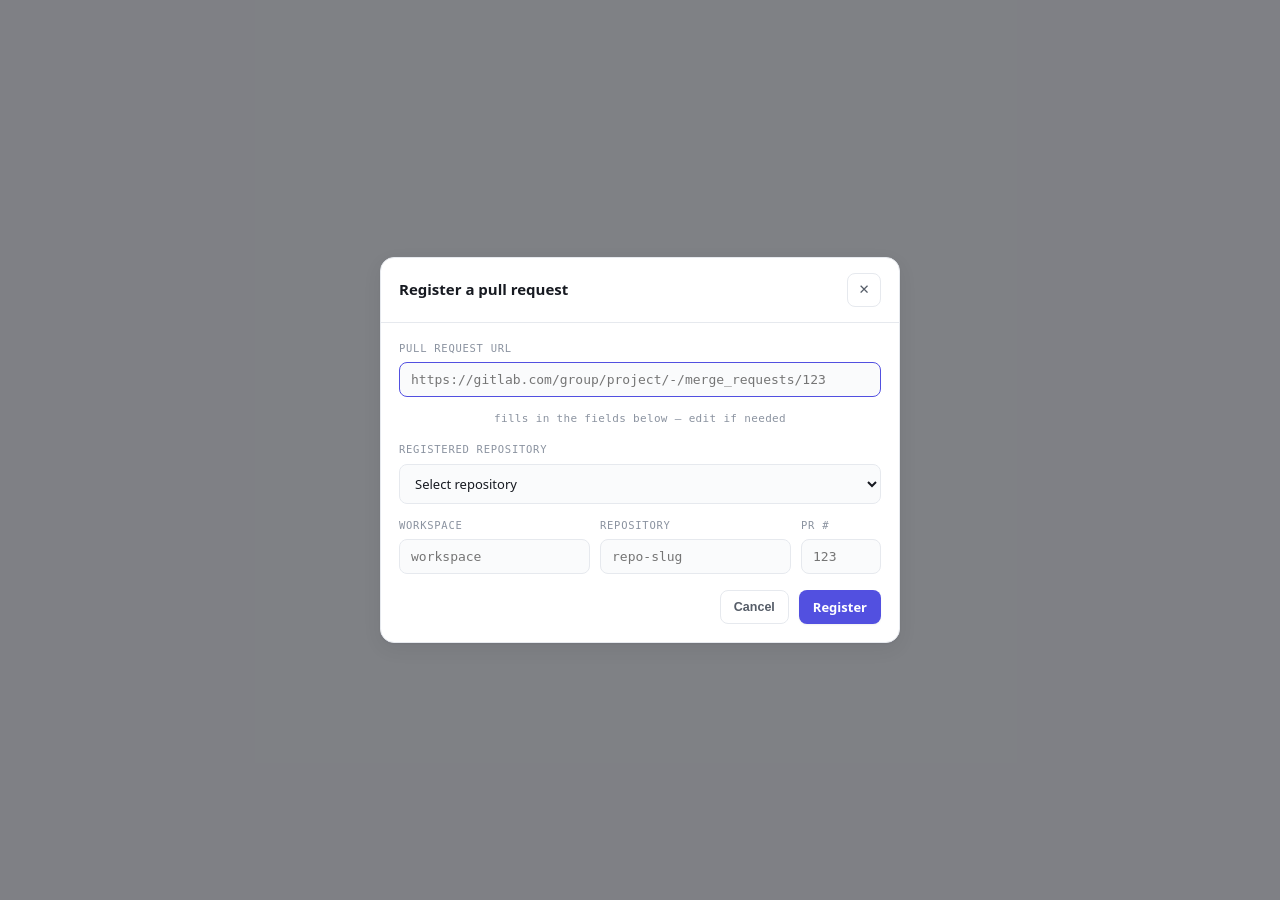
Test: RegisterPrDialog — form › surfaces a register failure instead of reporting success
Select "https://github.example.invalid · acme/widgets" in the dropdown labelled "Registered repository". click: (640,484)
box: [399,464,881,504]
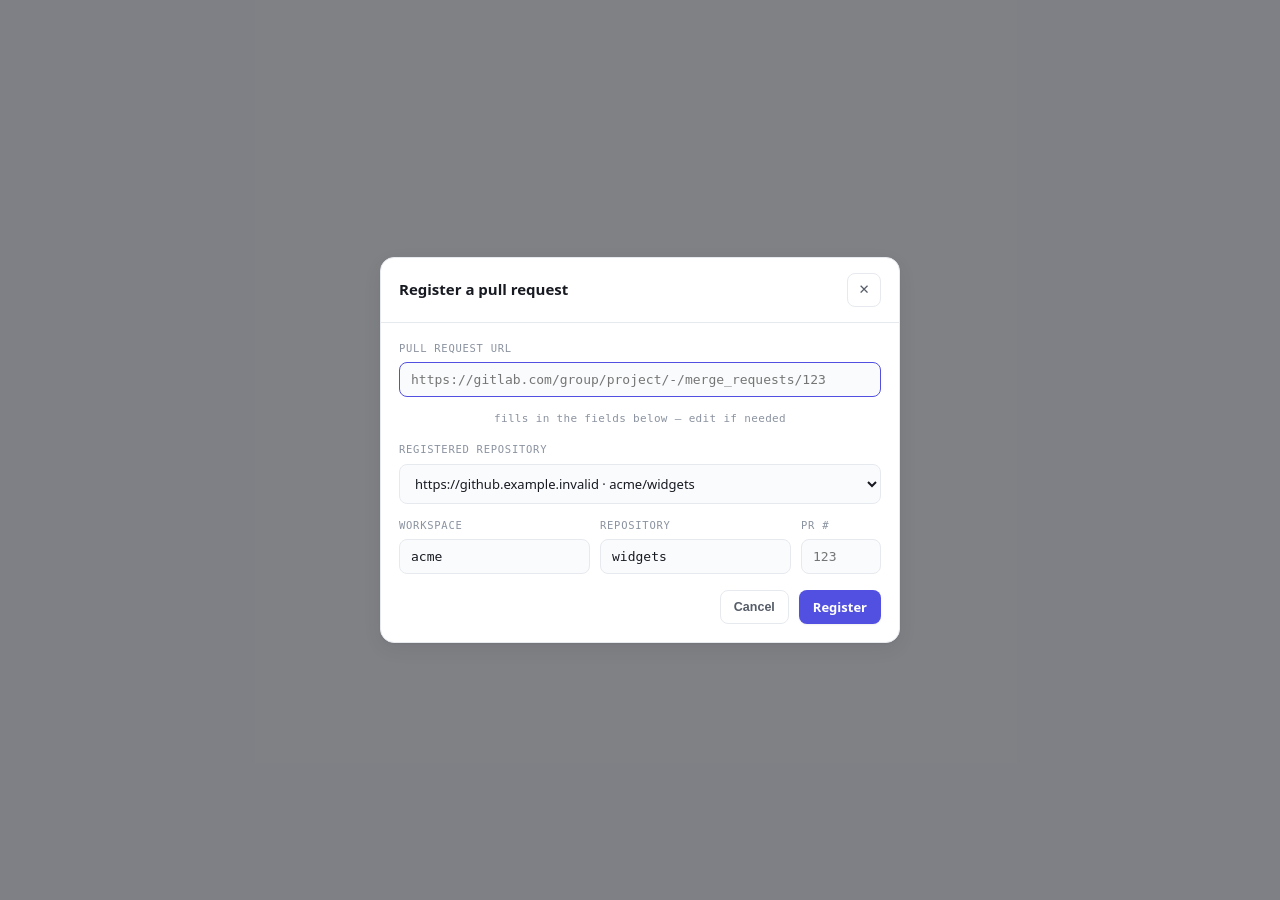
Type "7" into the field labelled "PR #". click: (841,557)
box: [801,539,881,574]
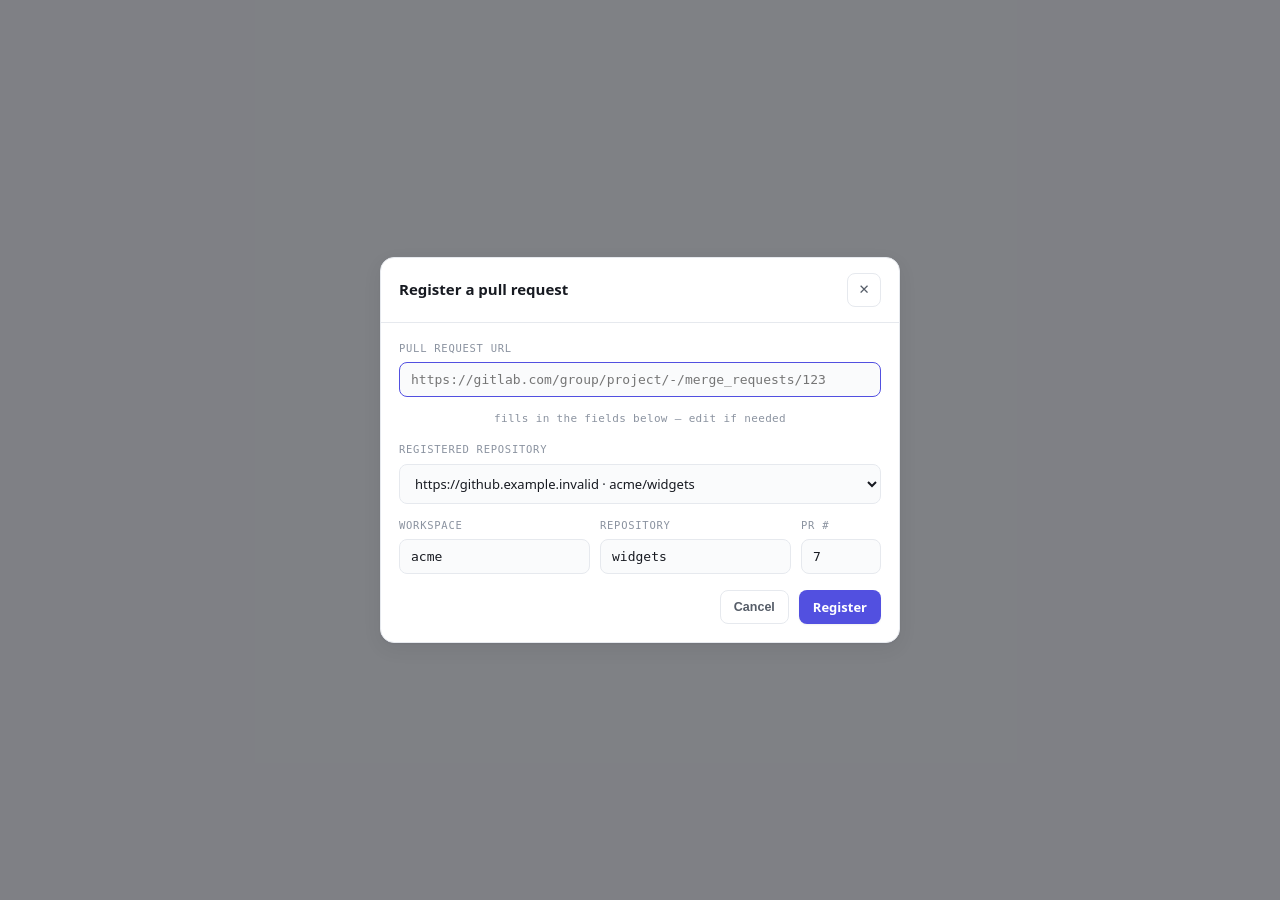
Click the button "Register". click: (840,607)
box: [799,590,881,624]
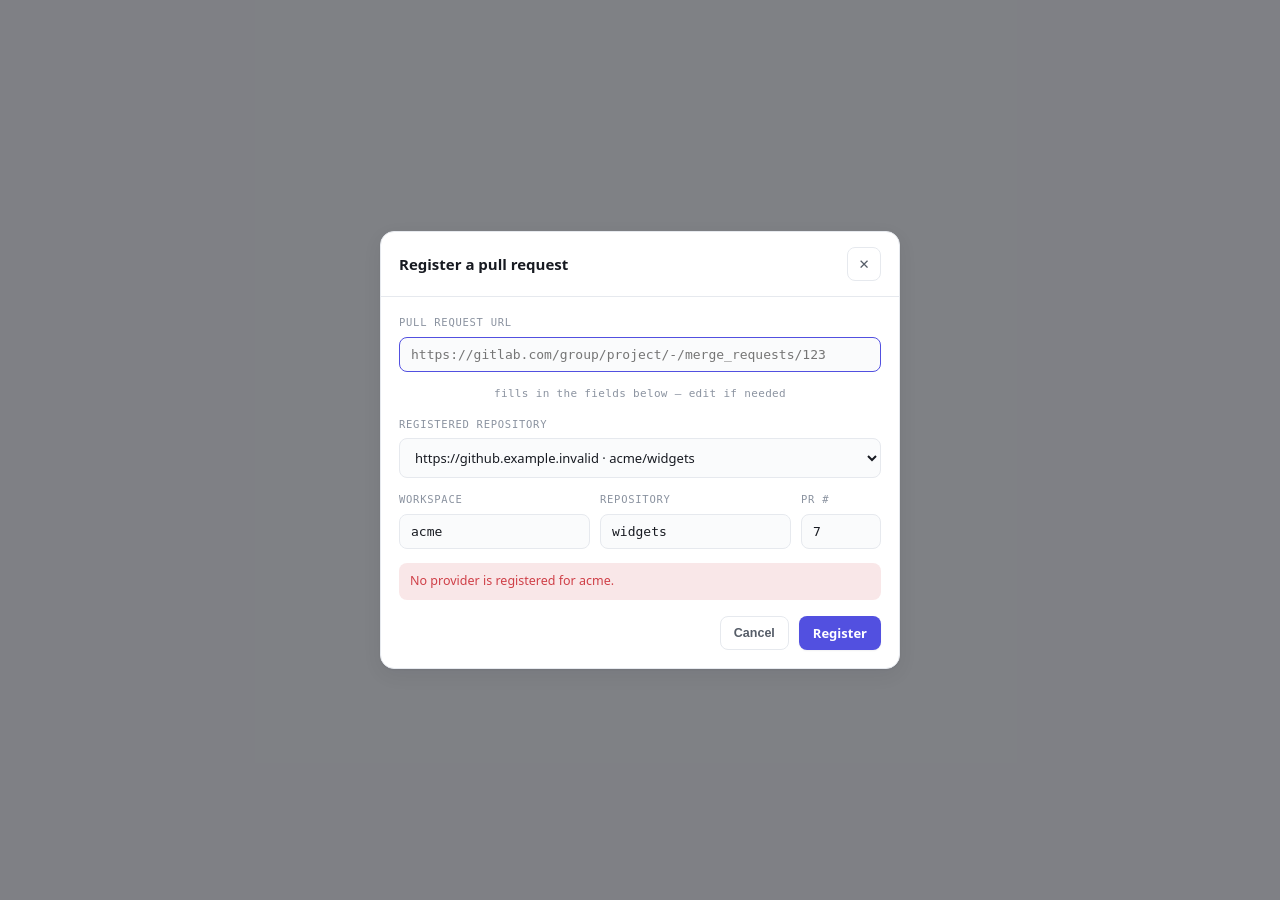
Expected: the text "No provider is registered for acme." is shown, [399,563,881,600]
